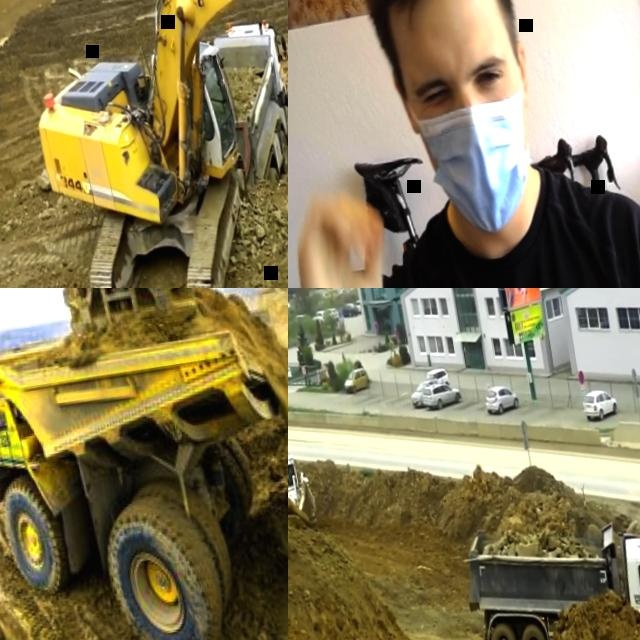Mask: (402, 75, 549, 244)
NO-Safety Vest: (378, 158, 640, 288)
Person: (288, 0, 640, 288), (202, 111, 214, 138)
machinery: (0, 288, 287, 640), (0, 295, 288, 640), (0, 0, 288, 288), (455, 499, 640, 640), (209, 12, 288, 187), (288, 447, 321, 540), (288, 293, 292, 316)
vehicle: (580, 386, 619, 422), (420, 380, 463, 412), (483, 382, 520, 417), (409, 378, 442, 409), (342, 367, 371, 394), (423, 367, 451, 390), (338, 302, 359, 319), (312, 309, 329, 325), (325, 307, 341, 323), (354, 300, 362, 314)
